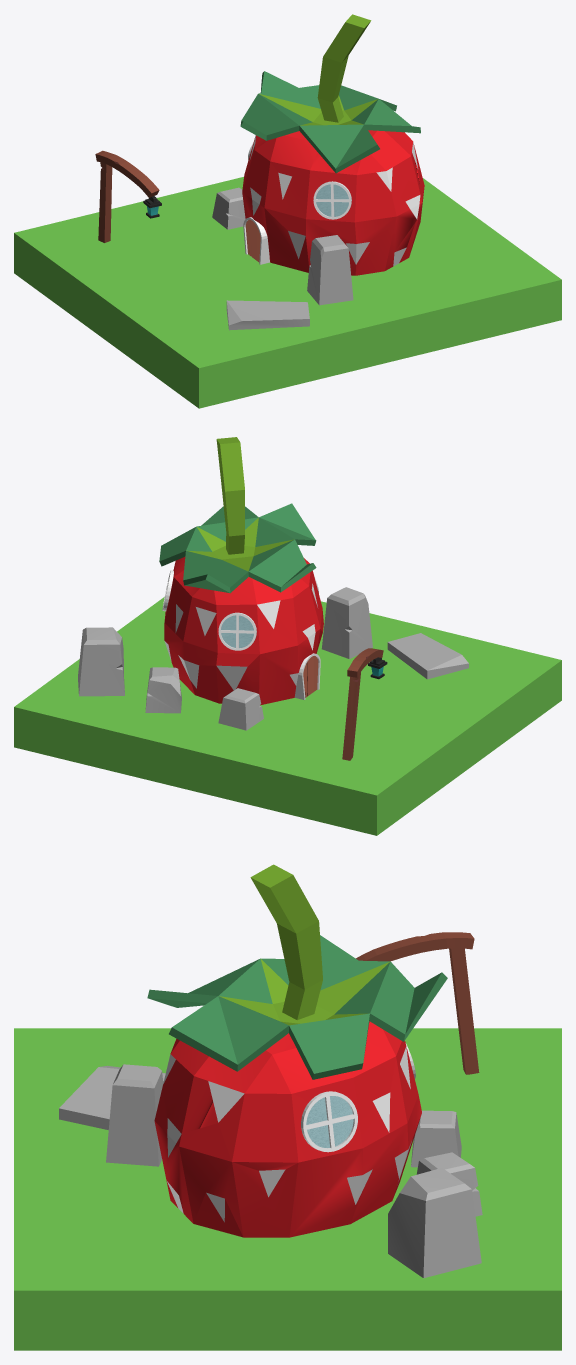
Rendered from casafresa2.fbx.
3 views of the same model, one above another, from view 1: azimuth 30°, elevation 25°; view 2: azimuth 150°, elevation 25°; view 3: azimuth 270°, elevation 25° (orthographic). The views are drawn at different scales.
Parts seen in each view (by area): view 1: Box762, Sphere.016, Group002, Cubo.105, Object011, Object014, Cubo.103; view 2: Box762, Sphere.016, Group002, Cubo.105, Object011, Object016, Cubo.103; view 3: Box762, Sphere.016, Group002, Cubo.105, Object011, Object015.
Boxes of the visible parts, x1,y1,x2,y2 form: Box762: [14, 177, 561, 408]; Sphere.016: [242, 130, 424, 275]; Group002: [240, 14, 420, 173]; Cubo.105: [212, 187, 353, 330]; Object011: [95, 150, 159, 242]; Object014: [313, 181, 351, 219]; Cubo.103: [243, 217, 269, 264]; Box762: [14, 597, 561, 835]; Sphere.016: [164, 557, 323, 705]; Group002: [159, 437, 316, 593]; Cubo.105: [78, 587, 468, 730]; Object011: [342, 648, 383, 760]; Object016: [218, 612, 256, 650]; Cubo.103: [294, 653, 320, 699]; Box762: [14, 1028, 561, 1350]; Sphere.016: [154, 1021, 421, 1237]; Group002: [147, 864, 447, 1079]; Cubo.105: [59, 1064, 482, 1278]; Object011: [356, 932, 479, 1074]; Object015: [301, 1091, 357, 1152].
Size of the model in its own units: 1880 by 1313 by 1660.
5 materials, 4 textured.
